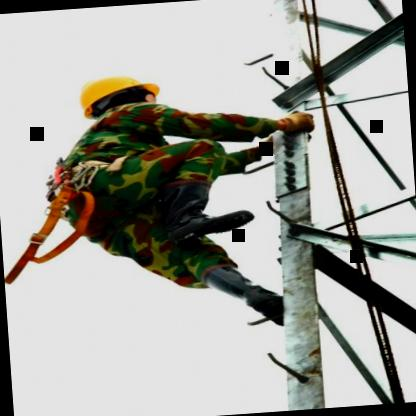helmet: (69, 68, 167, 136)
